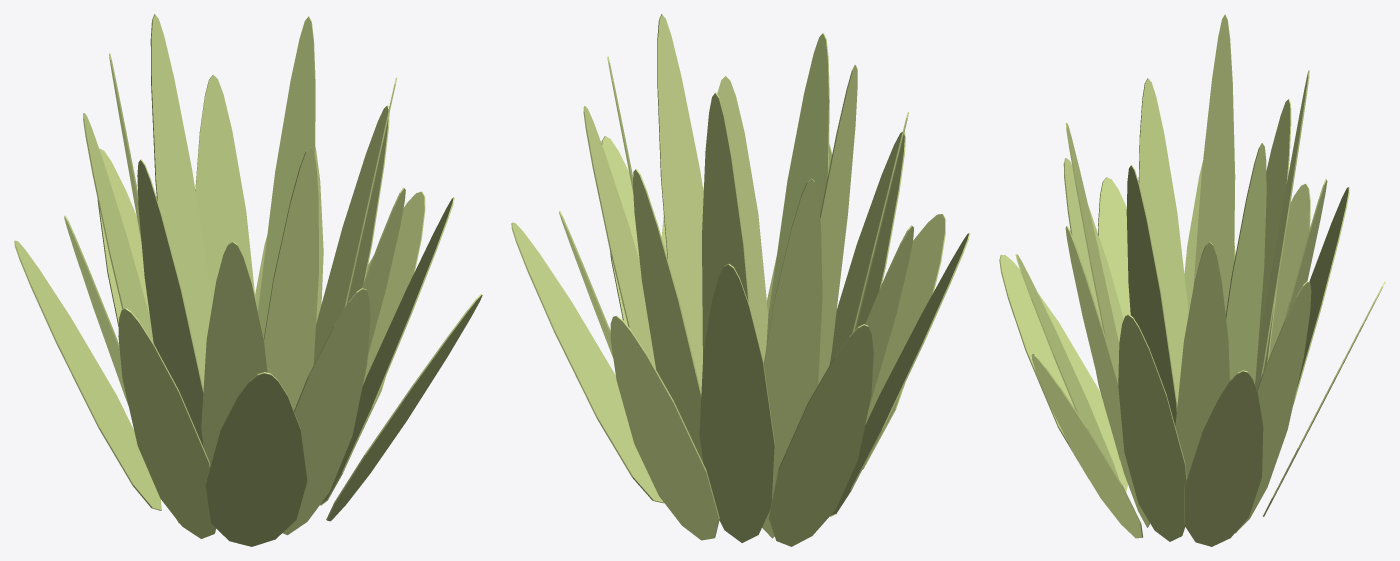
File: Gras001.fbx
3 renders of one model, left to right at view 1: azimuth 30°, elevation 25°; view 2: azimuth 150°, elevation 25°; view 3: azimuth 270°, elevation 25°, orthographic. The views are drawn at different scales.
Visible parts, largest first — view 1: Circle.001; view 2: Circle.001; view 3: Circle.001.
Boxes of the visible parts, x1,y1,x2,y2 form: Circle.001: (14, 14, 482, 546); Circle.001: (511, 14, 970, 546); Circle.001: (999, 14, 1385, 546).
Size of the model in its own units: 30.31 by 36.59 by 28.8.
